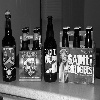beer: (43, 15, 59, 84)
